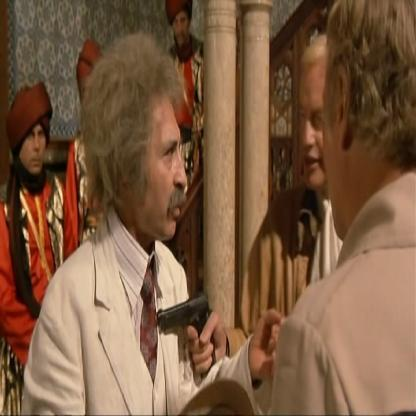gun: (151, 290, 218, 362)
